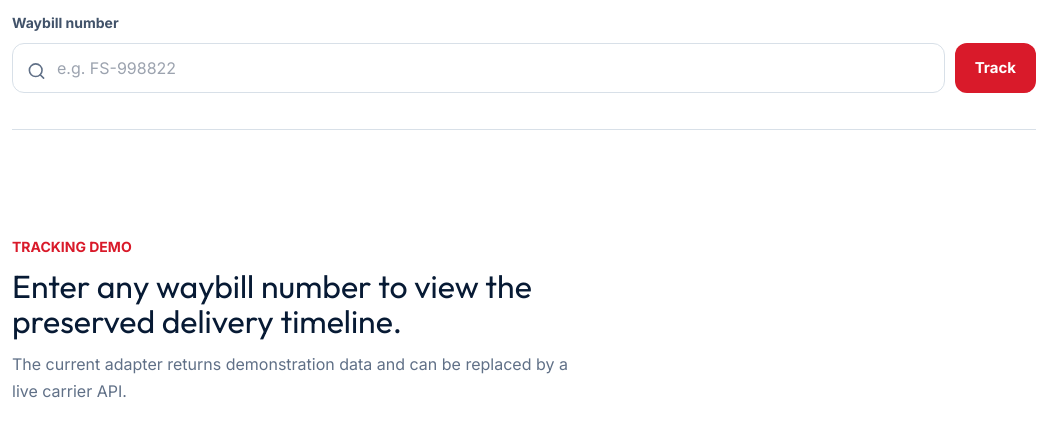
Test: TrackingPanel › requires a waybill number
Click the button "Track".
click(995, 68)  # box [955,43,1036,93]
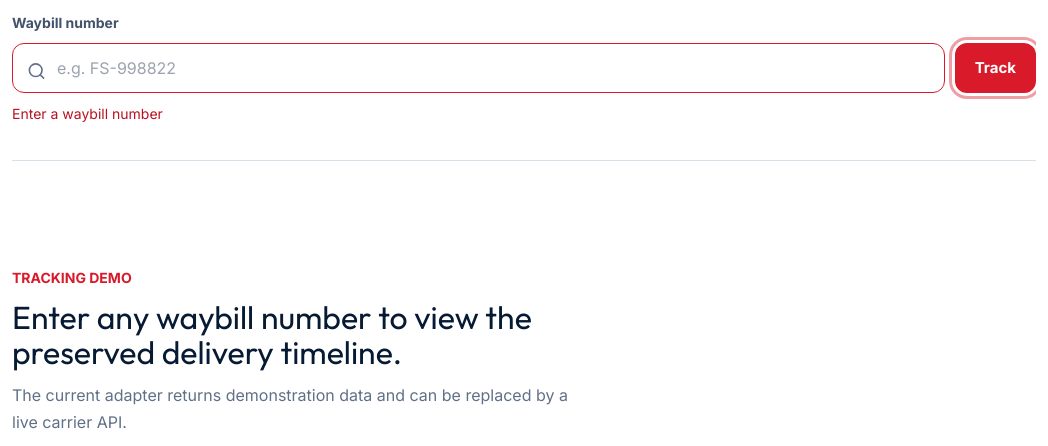
Now the text "Enter a waybill number" is shown, box [12,105,163,122]
